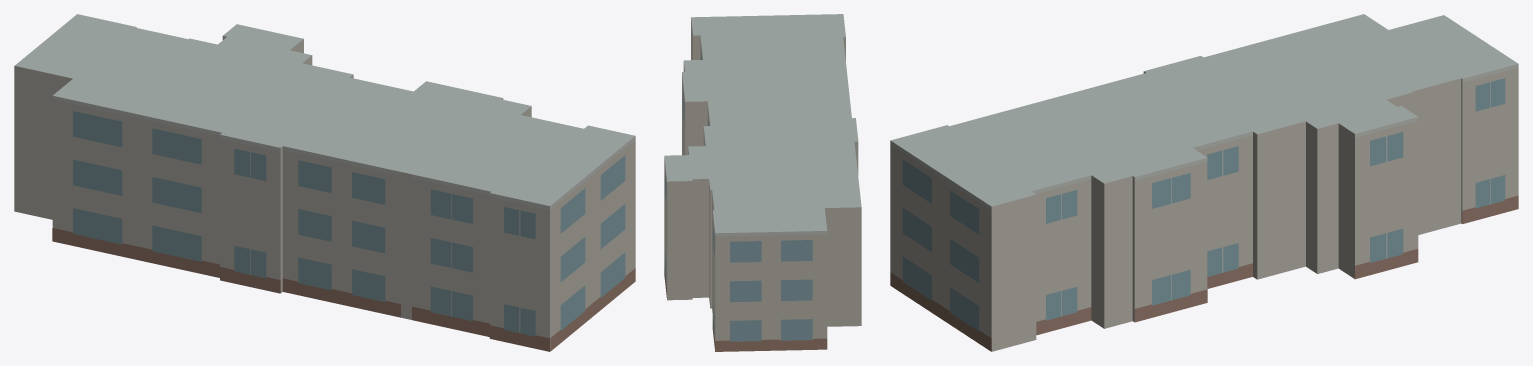
Rendered from survey-upis-32981675.glb.
3 renders of one model, left to right at view 1: azimuth 30°, elevation 25°; view 2: azimuth 150°, elevation 25°; view 3: azimuth 270°, elevation 25°, orthographic. The views are drawn at different scales.
Visible parts, largest first — view 1: survey-upis-32981675.tmp; view 2: survey-upis-32981675.tmp; view 3: survey-upis-32981675.tmp.
Boxes of the visible parts, x1,y1,x2,y2 form: survey-upis-32981675.tmp: [14, 14, 635, 351]; survey-upis-32981675.tmp: [664, 14, 861, 351]; survey-upis-32981675.tmp: [890, 14, 1518, 351].
Bounding box in the file's own units: 26.04 × 9.15 × 35.87.
